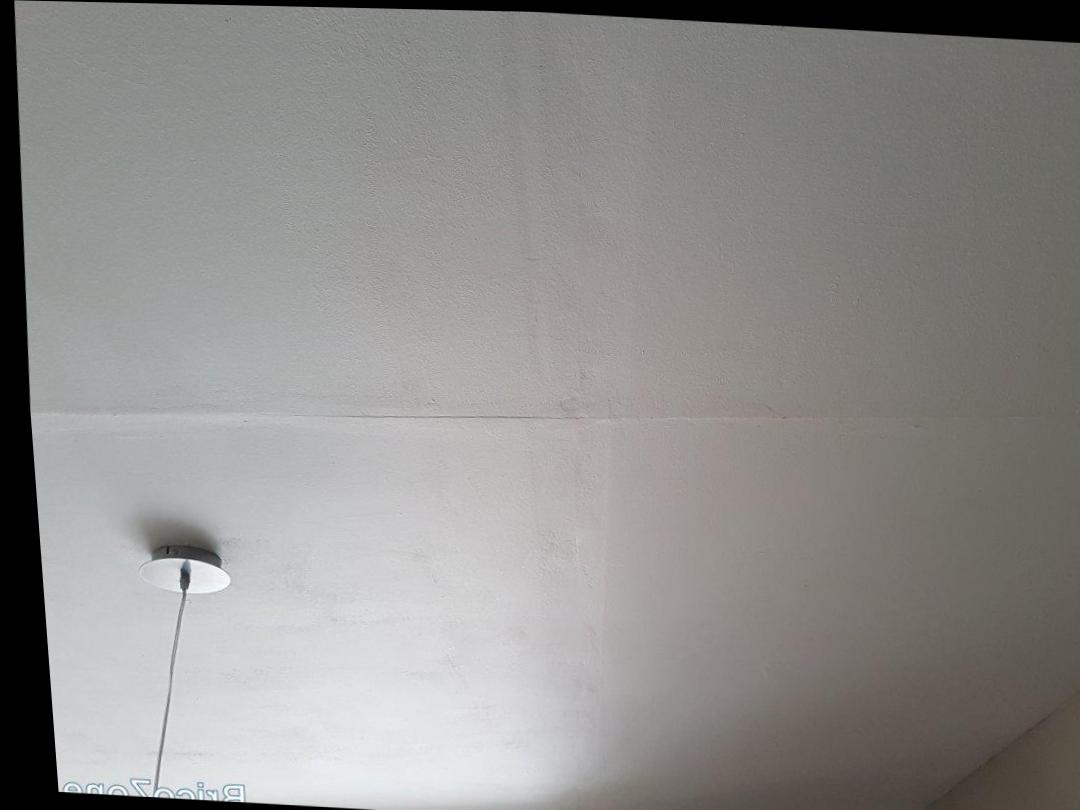crack: (255, 412, 576, 416)
